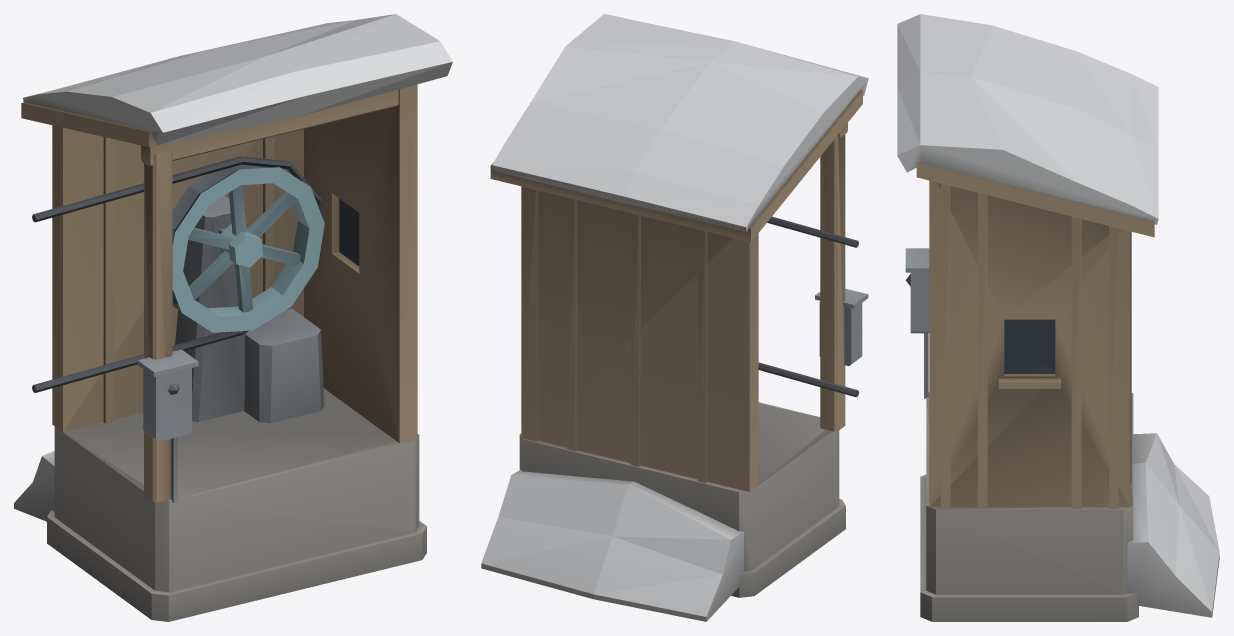
File: tow.glb
The picture shows the model from 3 angles, left to right: view 1: azimuth 30°, elevation 25°; view 2: azimuth 150°, elevation 25°; view 3: azimuth 270°, elevation 25°; orthographic projection. The views are drawn at different scales.
Visible parts, largest first — view 1: tow.001; view 2: tow.001; view 3: tow.001.
Part boxes in pixels (bbox=[...]): tow.001: bbox=[14, 14, 452, 621]; tow.001: bbox=[481, 14, 868, 621]; tow.001: bbox=[897, 14, 1219, 621].
Size of the model in its own units: 1.94 by 2.74 by 1.65.
